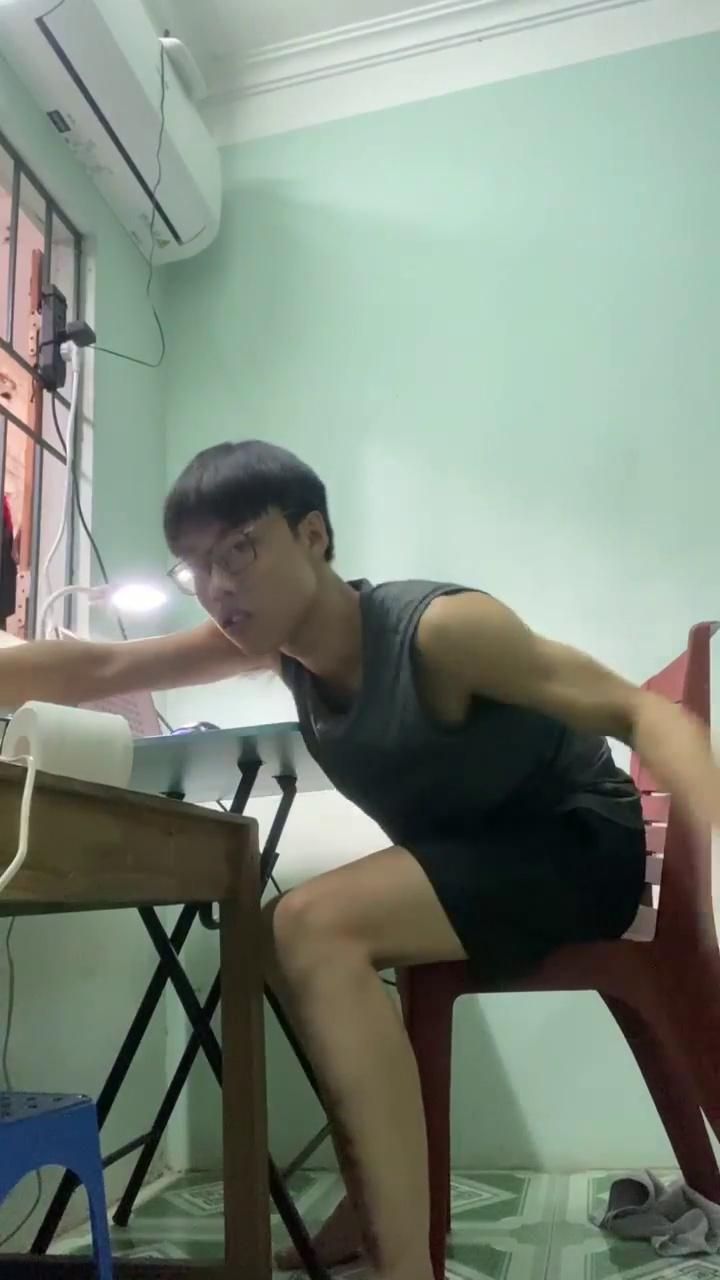BadPosture: (0, 440, 719, 1279)
